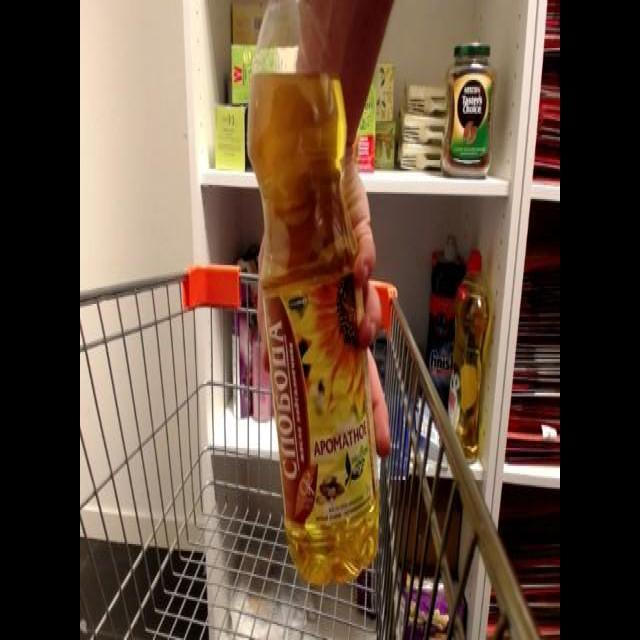Oil: (243, 1, 384, 591)
